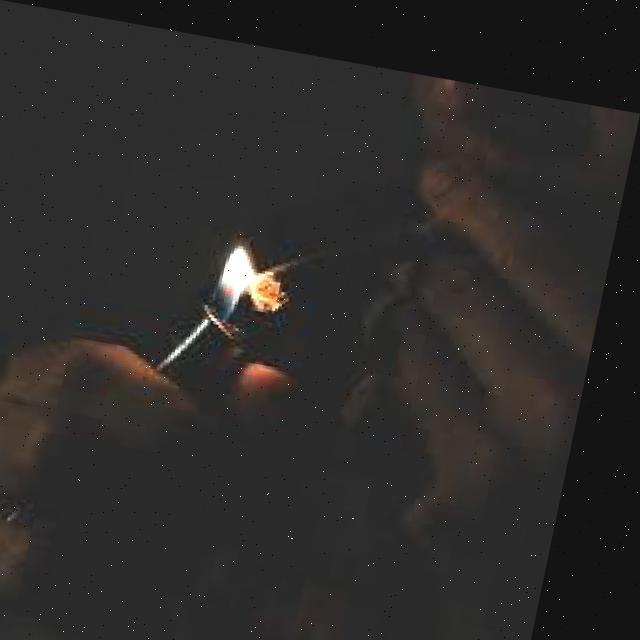Fire: (208, 220, 280, 322)
